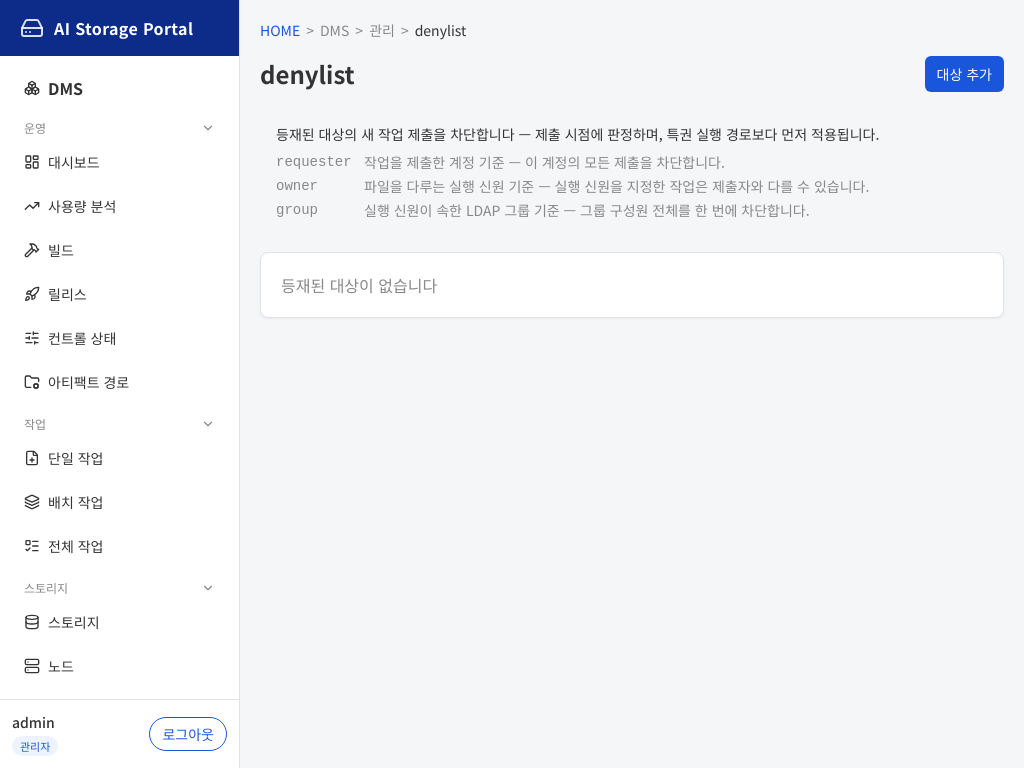
Test: 로그아웃 클릭은 즉시 로그인 화면으로 이동한다 -- me 재조회 루프 없이
Expected: the heading "denylist" is shown, top-left (260, 58), bottom-right (355, 90)
Click the button "로그아웃": click(188, 734) top-left (150, 717), bottom-right (227, 751)
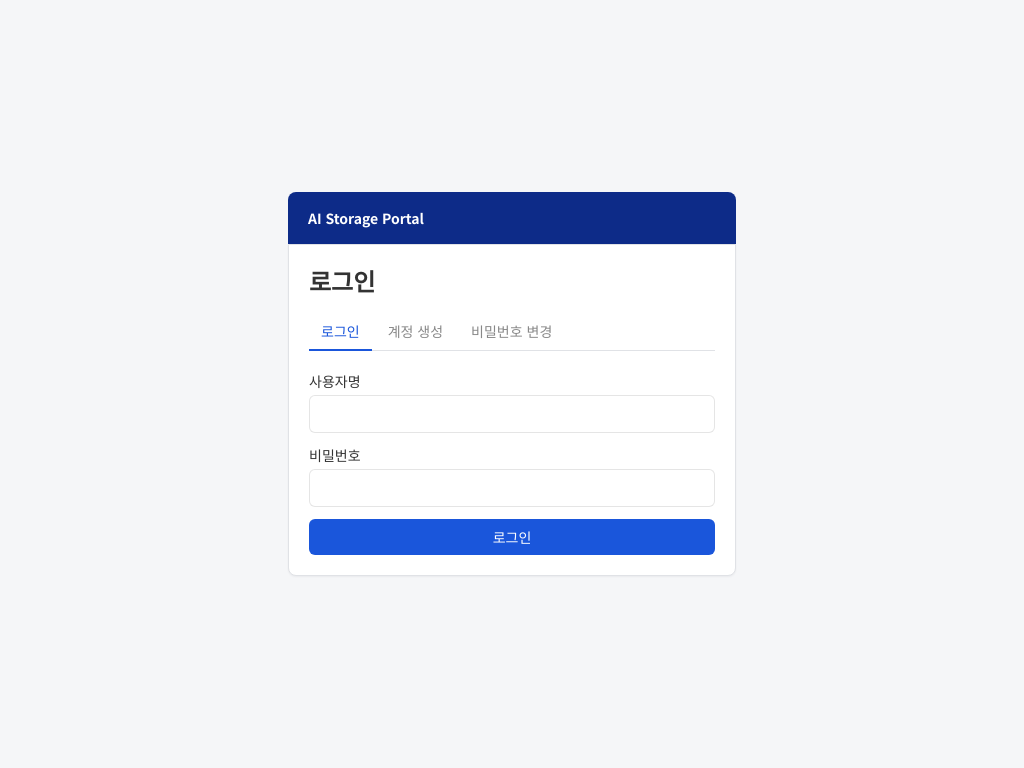
Result: the button "로그인" is shown at top-left (309, 519), bottom-right (715, 555)
